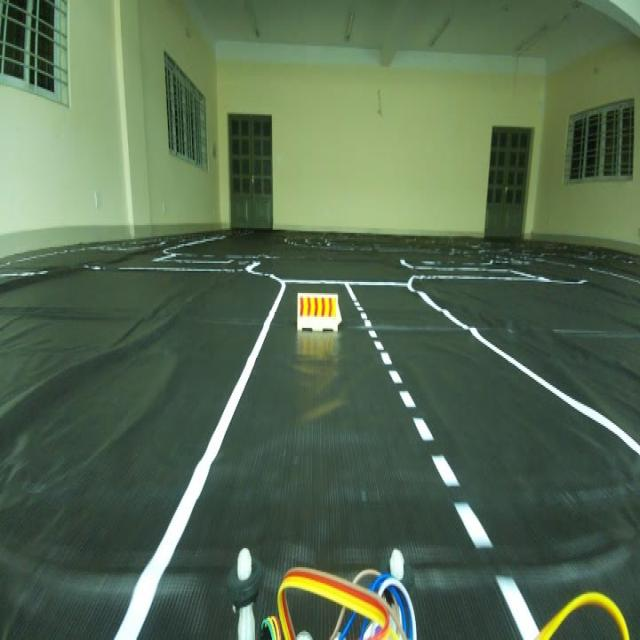roadblock: (292, 287, 345, 339)
